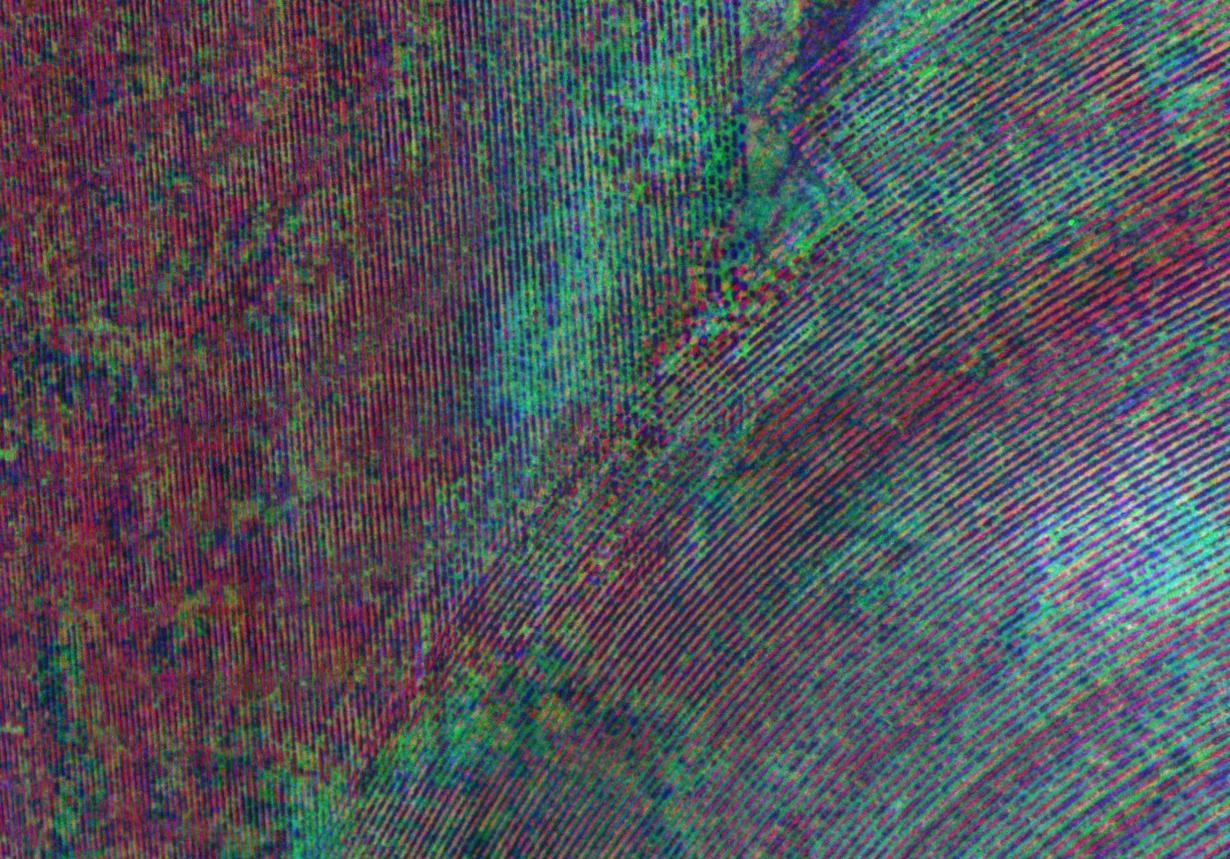dc: (273, 735, 424, 859), (586, 43, 730, 170), (491, 270, 598, 381), (421, 658, 525, 772), (828, 483, 933, 582), (803, 143, 907, 237), (1136, 490, 1230, 585), (541, 163, 636, 250), (871, 0, 977, 64)
